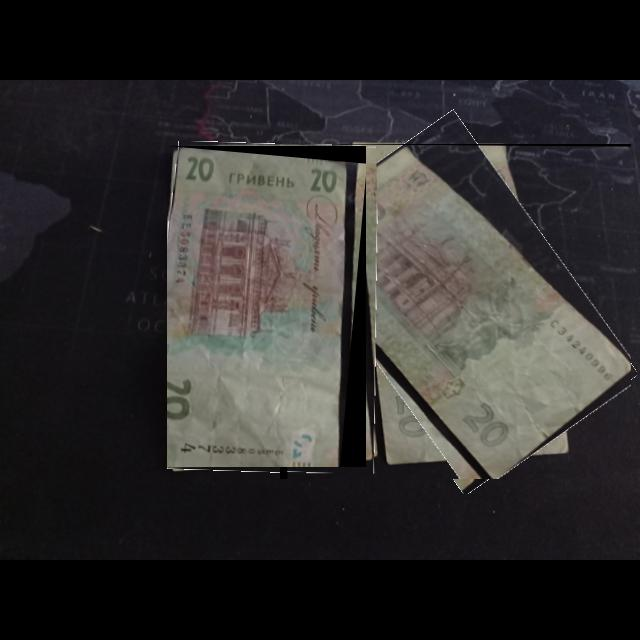20uah: (282, 146, 632, 480), (167, 148, 347, 468)
